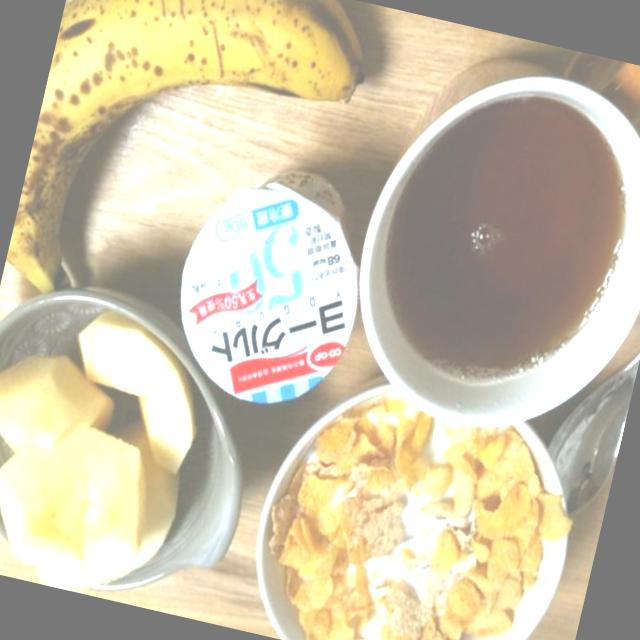Banana: (0, 0, 380, 359)
